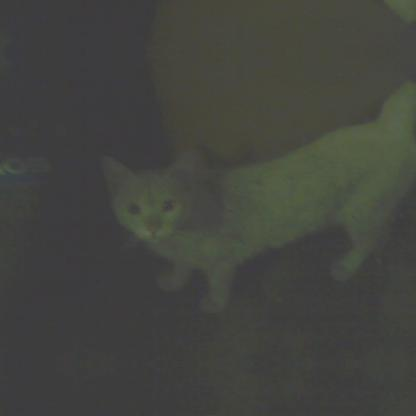Cat: (101, 78, 415, 315)
